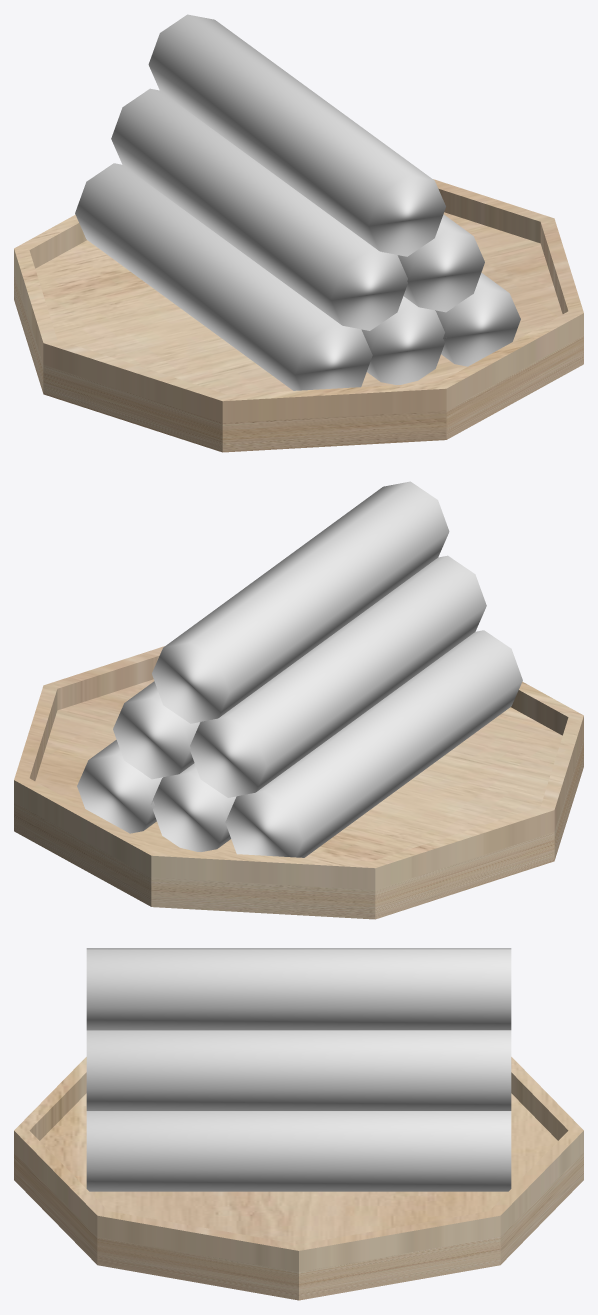
The model's file is 가래떡_FBX.fbx.
3 views of the same model, one above another, from view 1: azimuth 30°, elevation 25°; view 2: azimuth 150°, elevation 25°; view 3: azimuth 270°, elevation 25° (orthographic). The views are drawn at different scales.
Visible parts, largest first — view 1: Cylinder, Cylinder.006; view 2: Cylinder, Cylinder.006; view 3: Cylinder, Cylinder.006.
Part boxes in pixels (x1,y1,x2,y2): Cylinder: (75,14,520,390); Cylinder.006: (14,179,583,452); Cylinder: (77,481,522,857); Cylinder.006: (14,646,583,919); Cylinder: (86,948,511,1191); Cylinder.006: (14,1057,583,1300).
Size of the model in its own units: 352 by 156 by 352.
2 materials, 1 textured.
